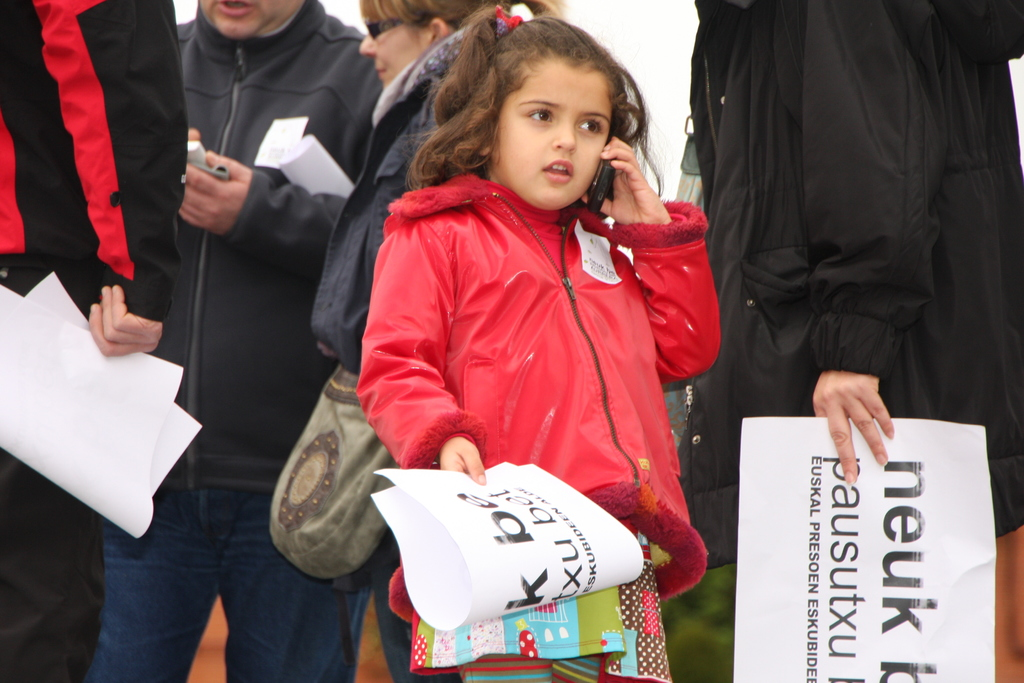Human_hand: (809, 370, 896, 488), (582, 134, 671, 226), (175, 148, 253, 240), (71, 280, 153, 364), (436, 436, 488, 484)
